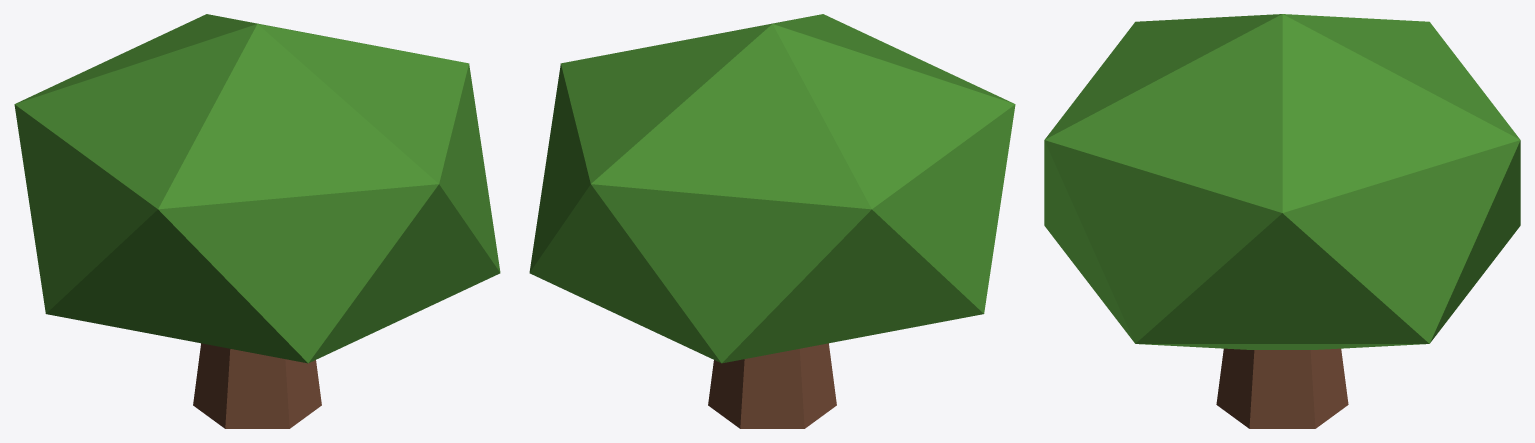
The model's file is Bush_Green_Dark_vc.fbx.
3 renders of one model, left to right at view 1: azimuth 30°, elevation 25°; view 2: azimuth 150°, elevation 25°; view 3: azimuth 270°, elevation 25°, orthographic. The views are drawn at different scales.
Visible parts, largest first — view 1: Bush_Green_Dark_vc; view 2: Bush_Green_Dark_vc; view 3: Bush_Green_Dark_vc.
Part boxes in pixels (x1,y1,x2,y2): Bush_Green_Dark_vc: [14, 14, 500, 428]; Bush_Green_Dark_vc: [529, 14, 1015, 428]; Bush_Green_Dark_vc: [1044, 14, 1520, 428].
Size of the model in its own units: 246 by 212 by 234.
